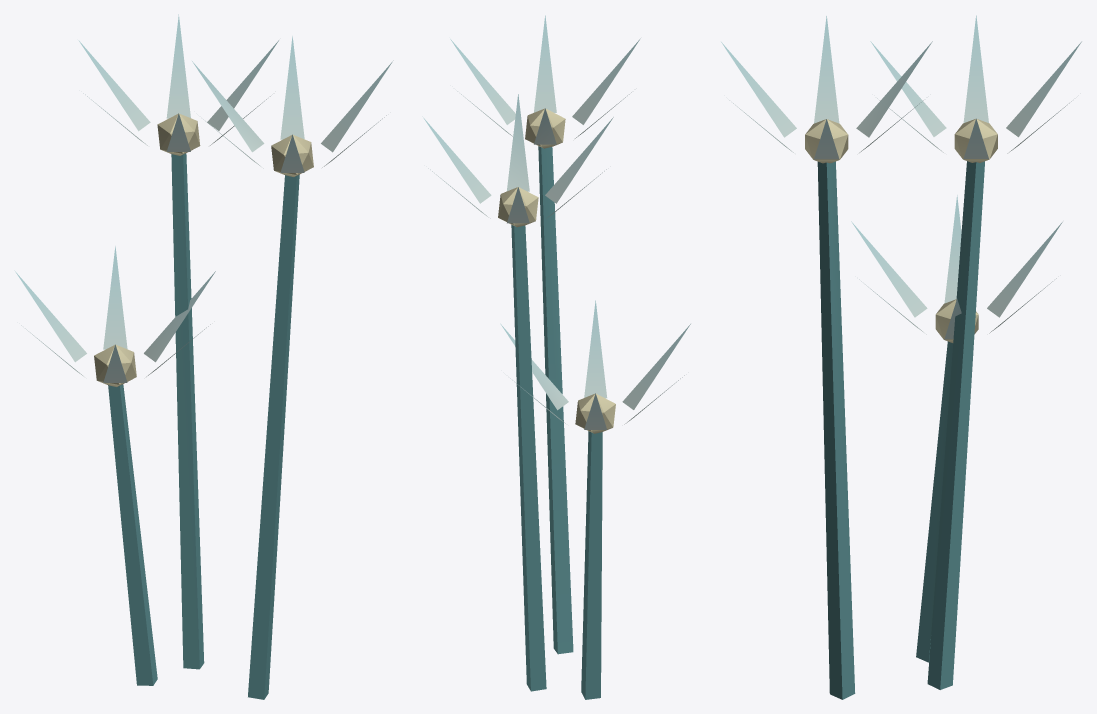
The model's file is glass_bloom.glb.
The picture shows the model from 3 angles, left to right: view 1: azimuth 30°, elevation 25°; view 2: azimuth 150°, elevation 25°; view 3: azimuth 270°, elevation 25°; orthographic projection. The views are drawn at different scales.
Visible parts, largest first — view 1: glass_bloom; view 2: glass_bloom; view 3: glass_bloom.
Boxes of the visible parts, x1,y1,x2,y2 form: glass_bloom: (14,14,393,699); glass_bloom: (422,15,690,699); glass_bloom: (721,15,1081,699).
Size of the model in its own units: 1.07 by 1.96 by 1.
